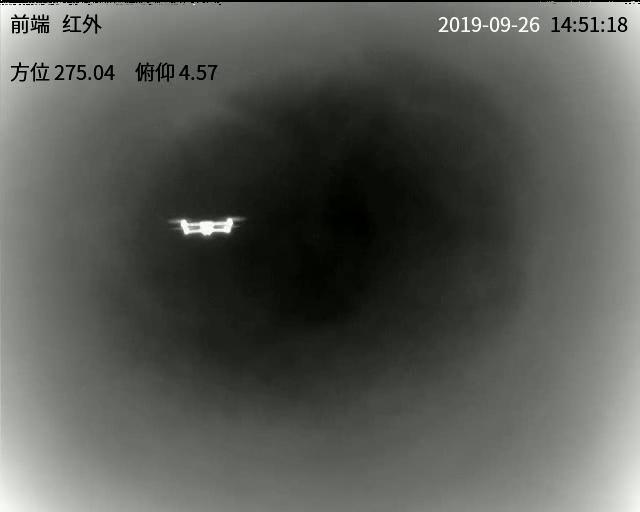DRONE: (170, 217, 240, 237)
